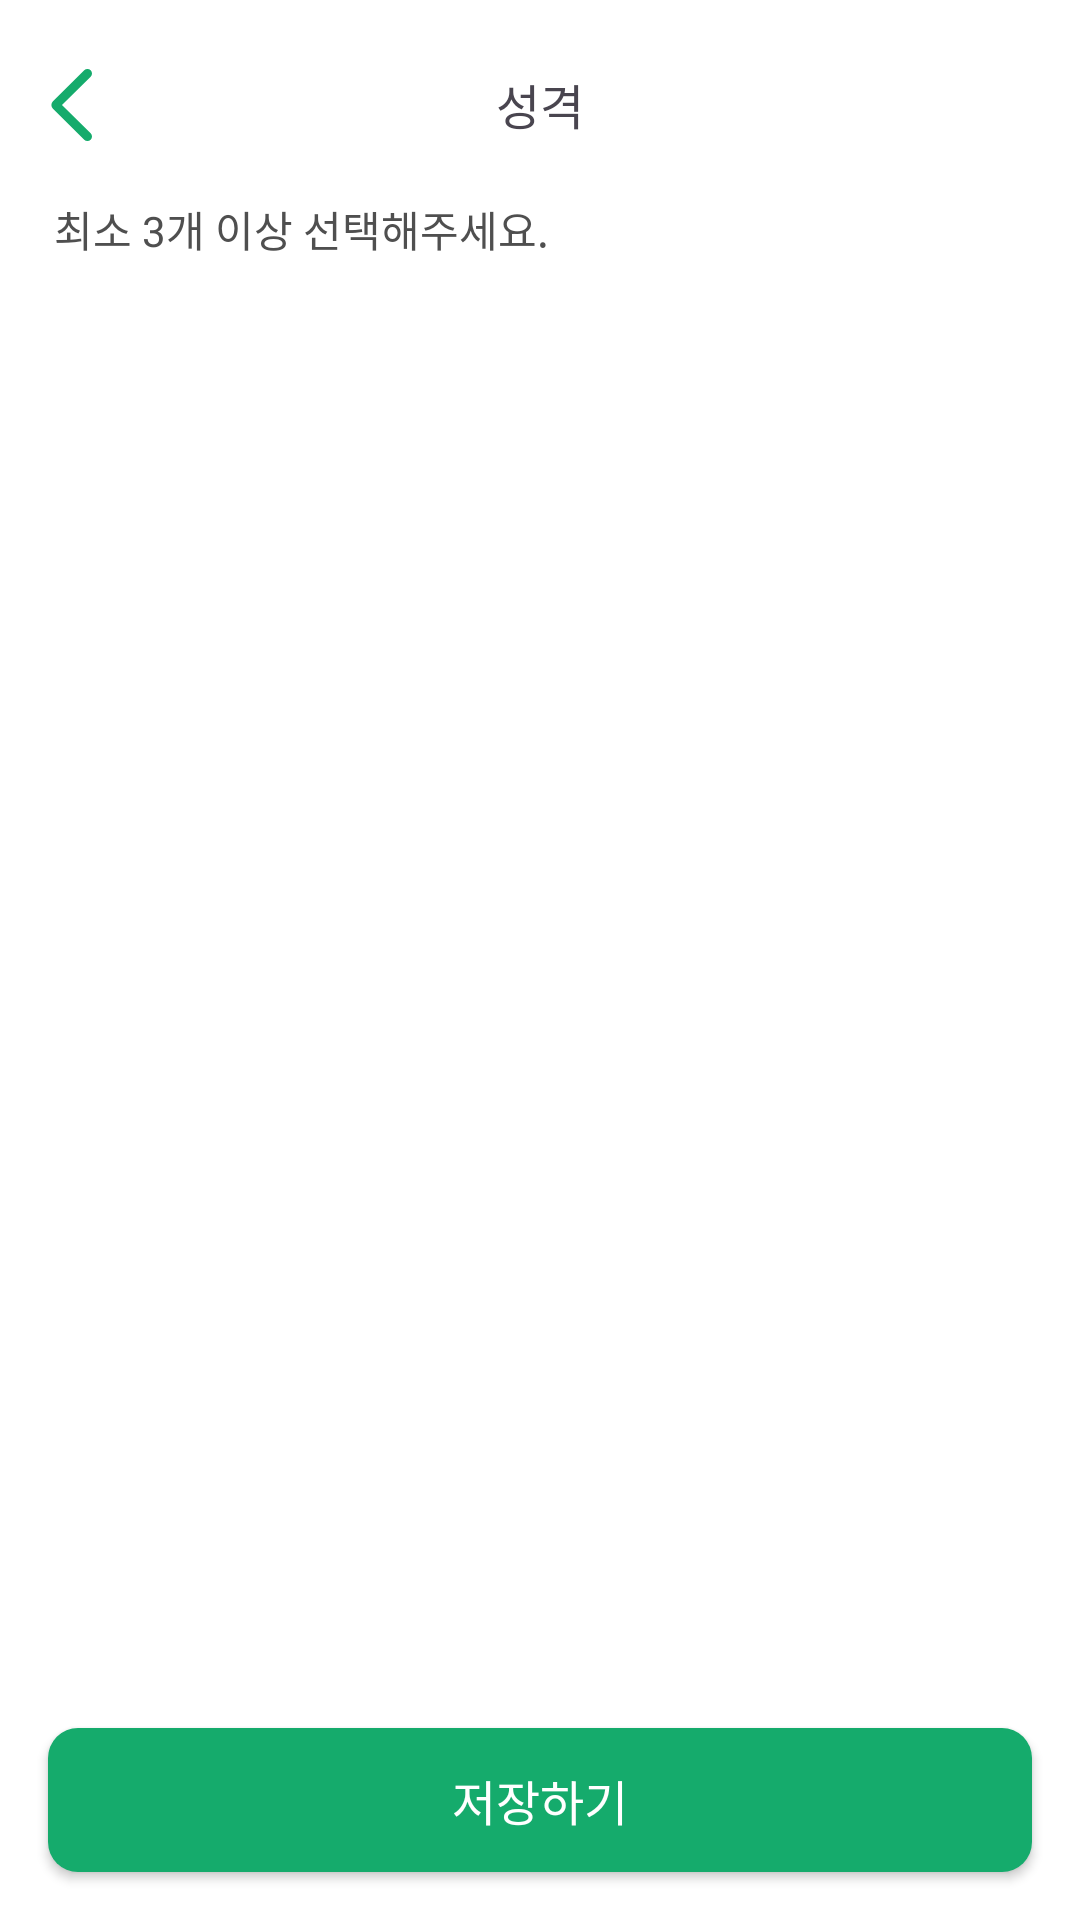

Where to tap for icons on this 1080px×1920px app screen, as point (x, y):
arrow back: point (71, 105)
